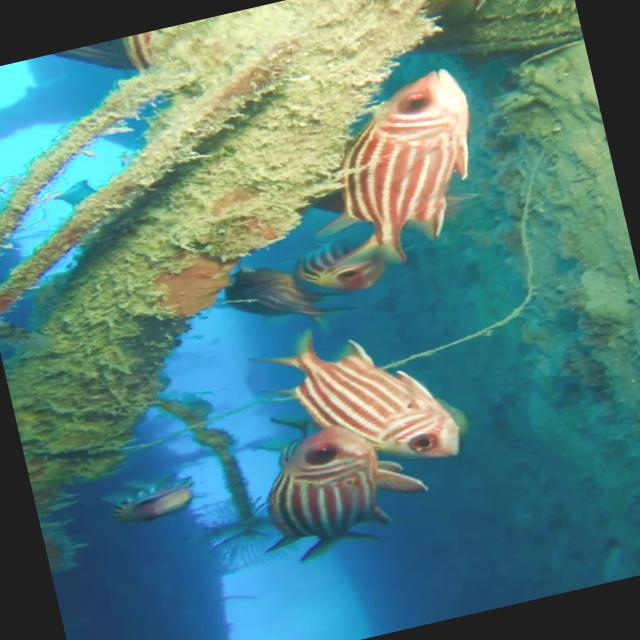Asker Baligi: (257, 62, 504, 304), (240, 298, 472, 498)
